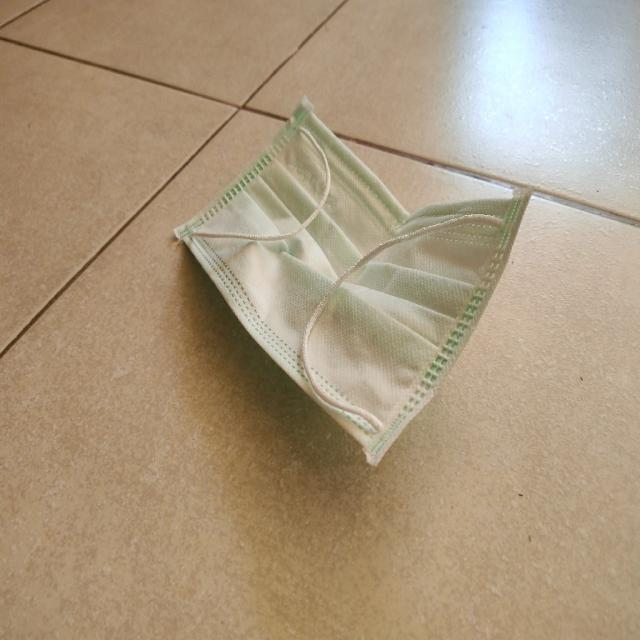non-organic waste: (169, 91, 529, 472)
